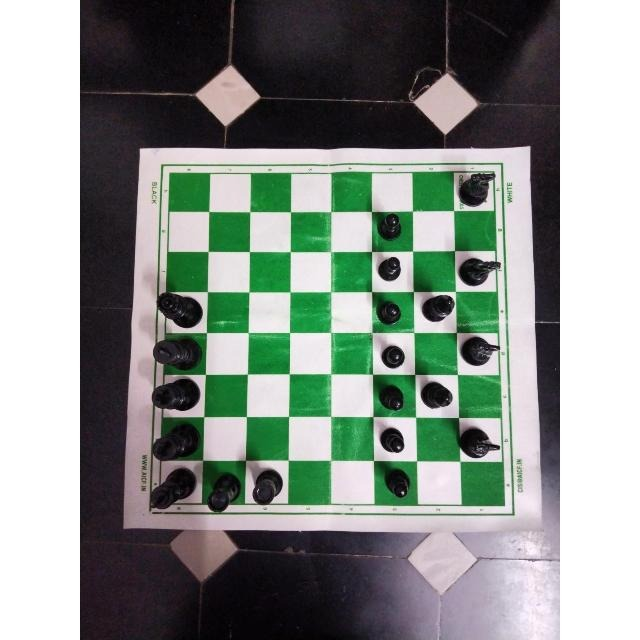black-bishop: (415, 287, 458, 327), (421, 377, 457, 413)
black-king: (145, 467, 200, 517), (144, 421, 204, 463), (148, 376, 207, 416), (150, 337, 206, 373)
black-knight: (459, 419, 507, 461), (455, 166, 499, 206), (458, 331, 505, 368), (457, 248, 504, 284)
black-pawn: (375, 463, 417, 505), (373, 208, 409, 248), (372, 293, 409, 331), (376, 379, 410, 419), (376, 425, 414, 459), (377, 335, 411, 372), (376, 252, 404, 285)
black-queen: (152, 287, 204, 330)
black-rook: (250, 462, 294, 514), (205, 461, 242, 514)
